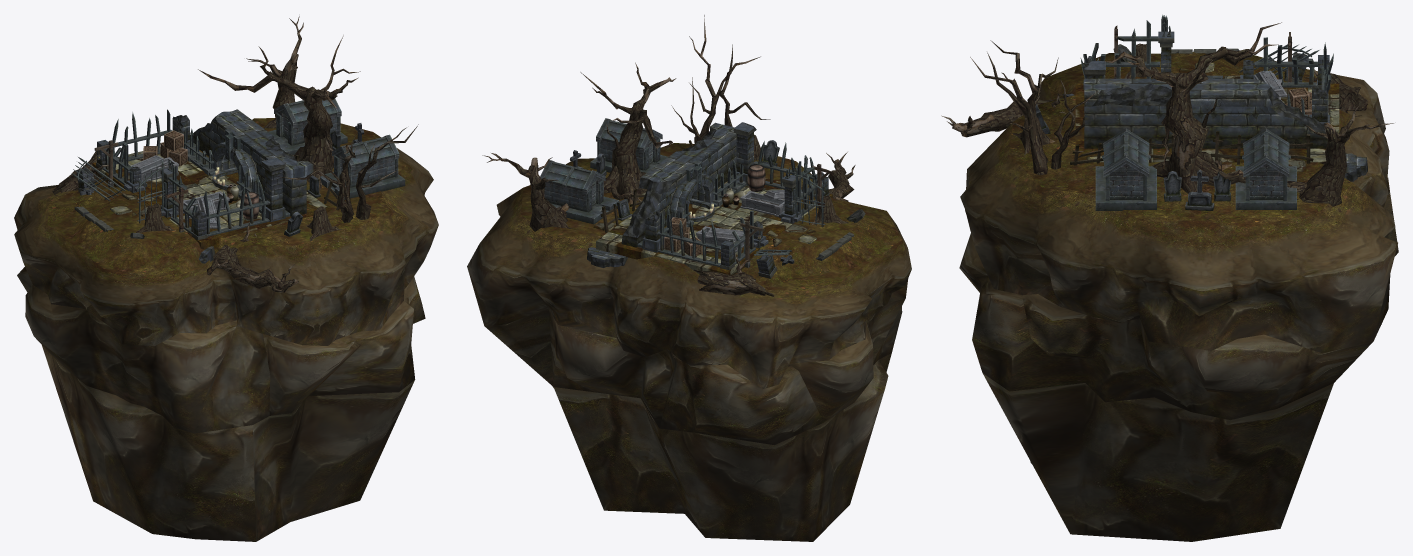
The model's file is brigeend.fbx.
3 renders of one model, left to right at view 1: azimuth 30°, elevation 25°; view 2: azimuth 150°, elevation 25°; view 3: azimuth 270°, elevation 25°, orthographic. The views are drawn at different scales.
Visible parts, largest first — view 1: brigeend; view 2: brigeend; view 3: brigeend.
Part boxes in pixels (box(x1,y1,x2,y2)): brigeend: box(14, 16, 438, 541); brigeend: box(467, 15, 911, 541); brigeend: box(941, 14, 1398, 541).
Bounding box in the file's own units: 24.61 × 25.16 × 20.87.
